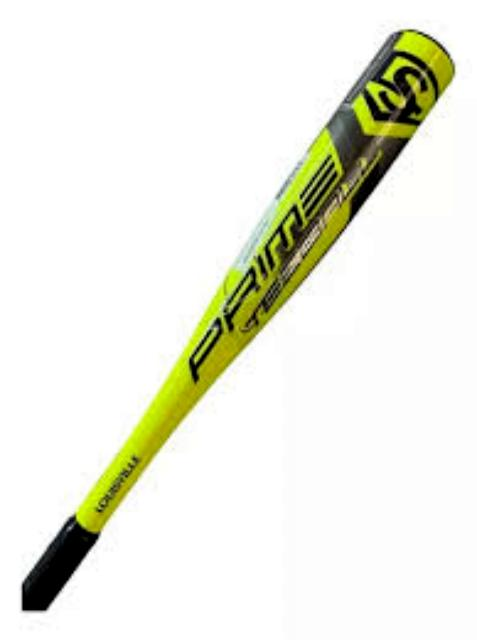baseball bat: (15, 26, 461, 603)
